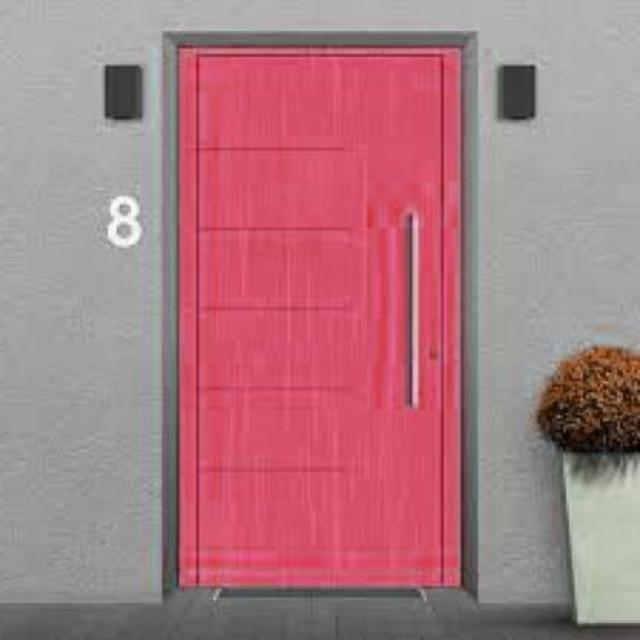door: (174, 40, 464, 591)
